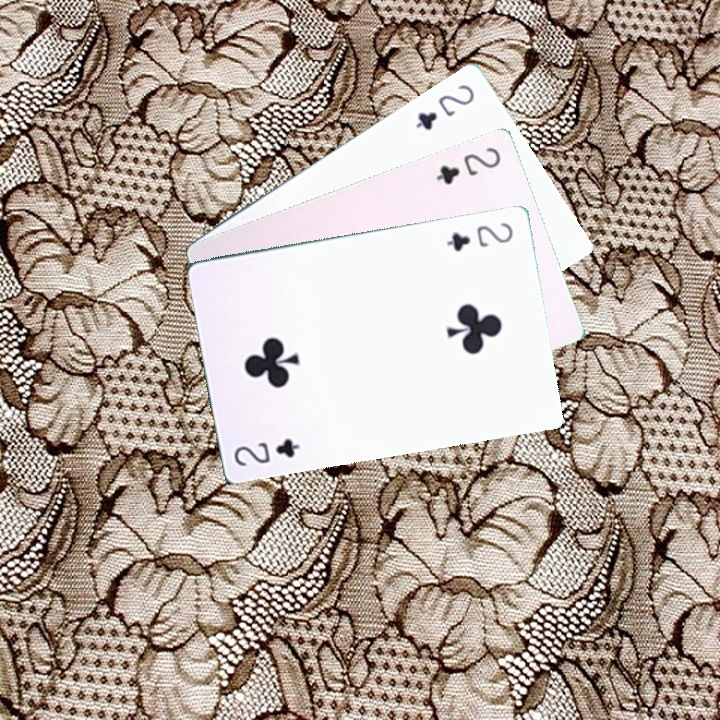2c: (411, 80, 477, 133), (432, 143, 503, 188), (443, 218, 516, 254), (230, 434, 303, 469)
